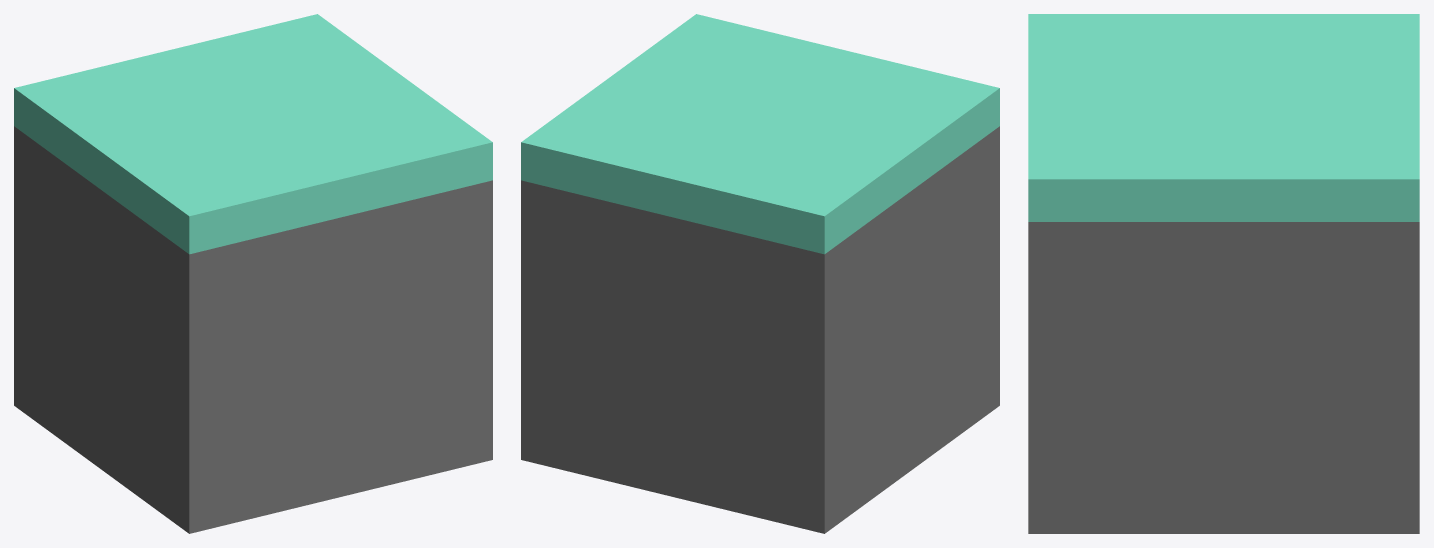
File: FloorTile.fbx
The picture shows the model from 3 angles, left to right: view 1: azimuth 30°, elevation 25°; view 2: azimuth 150°, elevation 25°; view 3: azimuth 270°, elevation 25°; orthographic projection. The views are drawn at different scales.
Visible parts, largest first — view 1: Box001; view 2: Box001; view 3: Box001.
Boxes of the visible parts, x1,y1,x2,y2 form: Box001: (14, 14, 492, 533); Box001: (521, 14, 999, 533); Box001: (1028, 14, 1419, 533).
Size of the model in its own units: 100 by 100 by 100.
